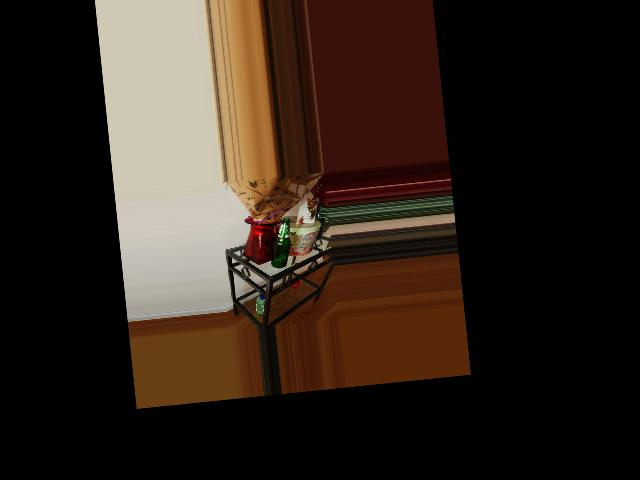beer: (267, 217, 294, 269)
